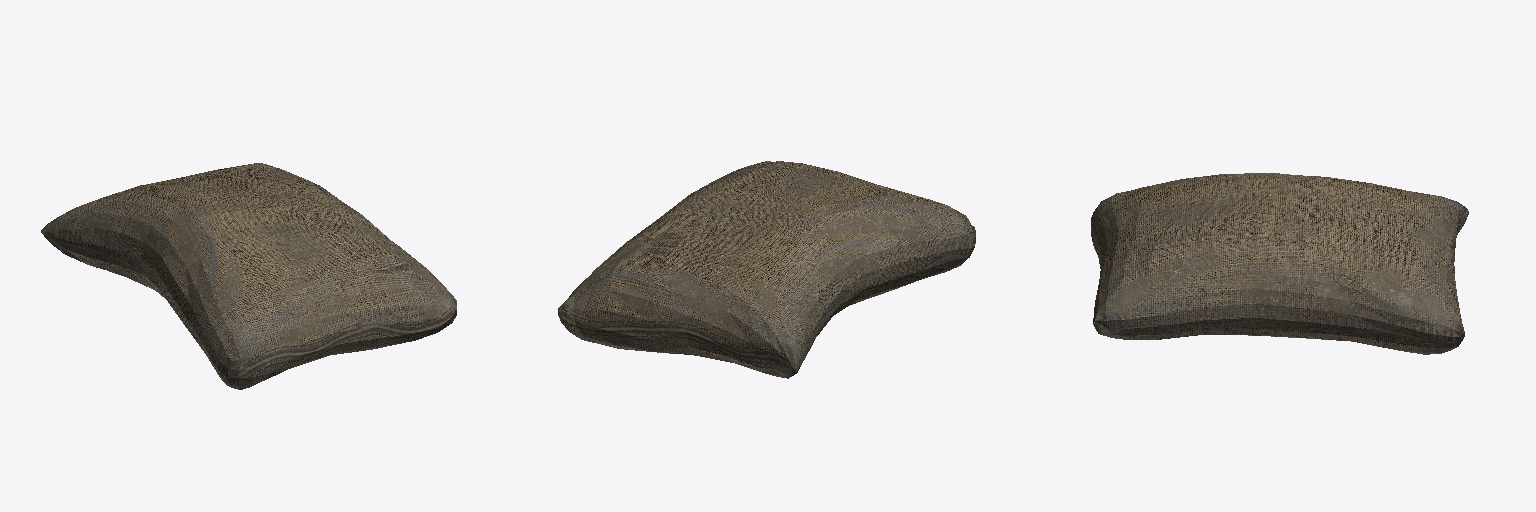
3 renders of one model, left to right at view 1: azimuth 30°, elevation 25°; view 2: azimuth 150°, elevation 25°; view 3: azimuth 270°, elevation 25°, orthographic.
Parts seen in each view (by area): view 1: default; view 2: default; view 3: default.
Part boxes in pixels (x1,y1,x2,y2): default: (41, 163, 456, 389); default: (558, 161, 975, 378); default: (1091, 173, 1468, 354).
Size of the model in its own units: 83.93 by 36.72 by 113.
1 materials, 1 textured.